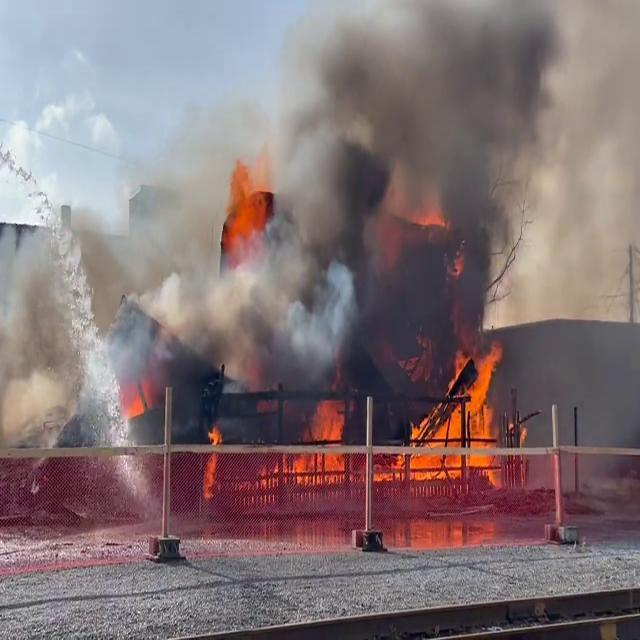Fire: (397, 338, 507, 468), (215, 152, 277, 262), (293, 381, 354, 473), (196, 421, 225, 495)
Smoke: (0, 0, 610, 425)
